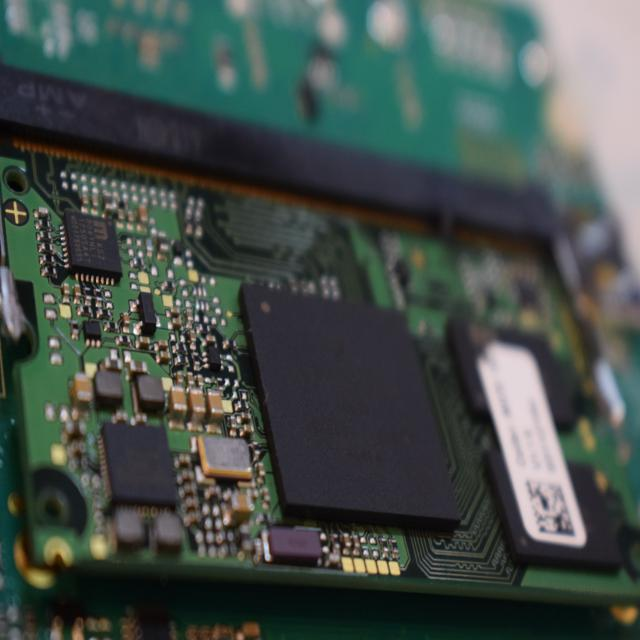som: (1, 138, 638, 602)
